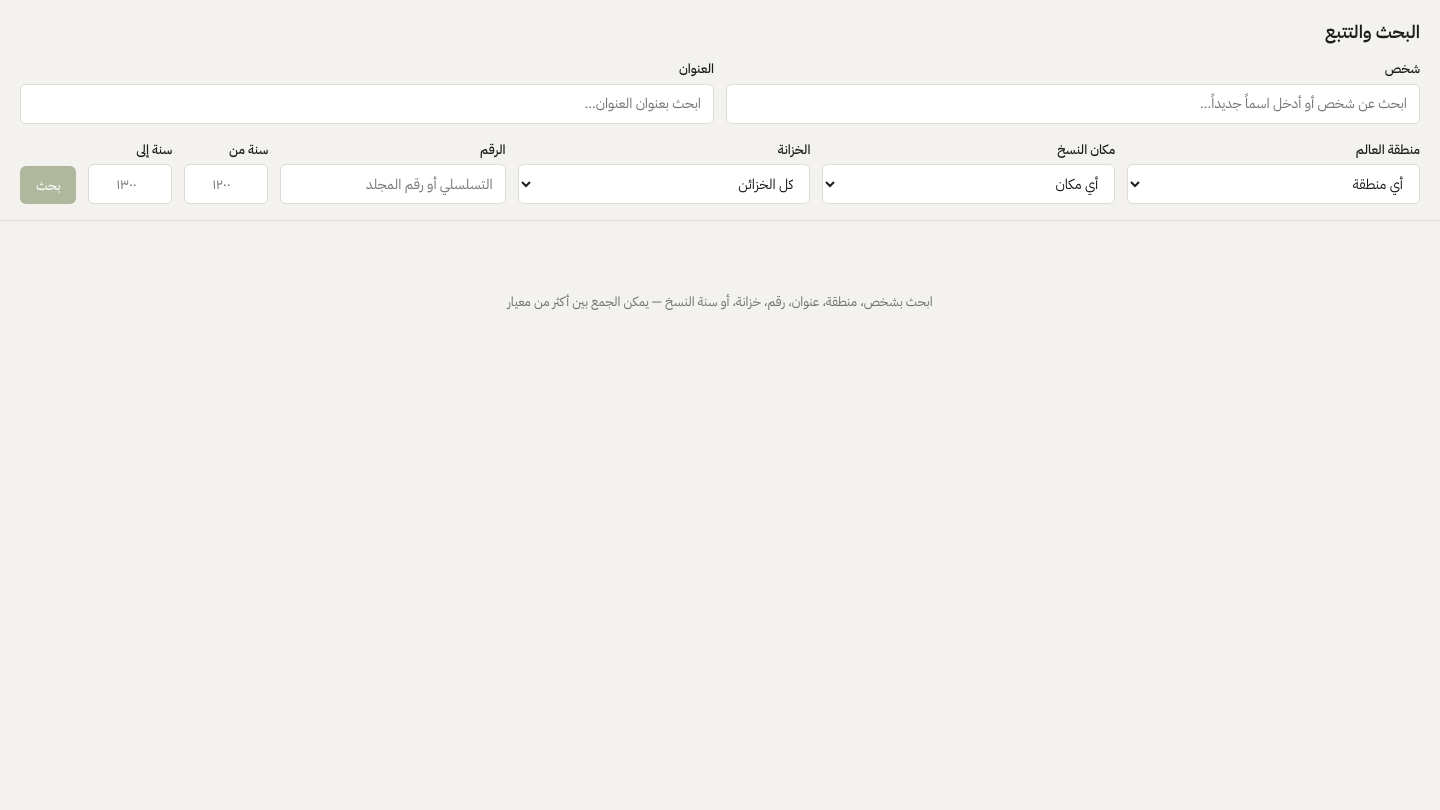
TraceScreen — results table › opens WorkDetailModal when a work-level row is clicked
Type "ر" into the field labelled "العنوان" at (367, 104), box [20,84,714,124]
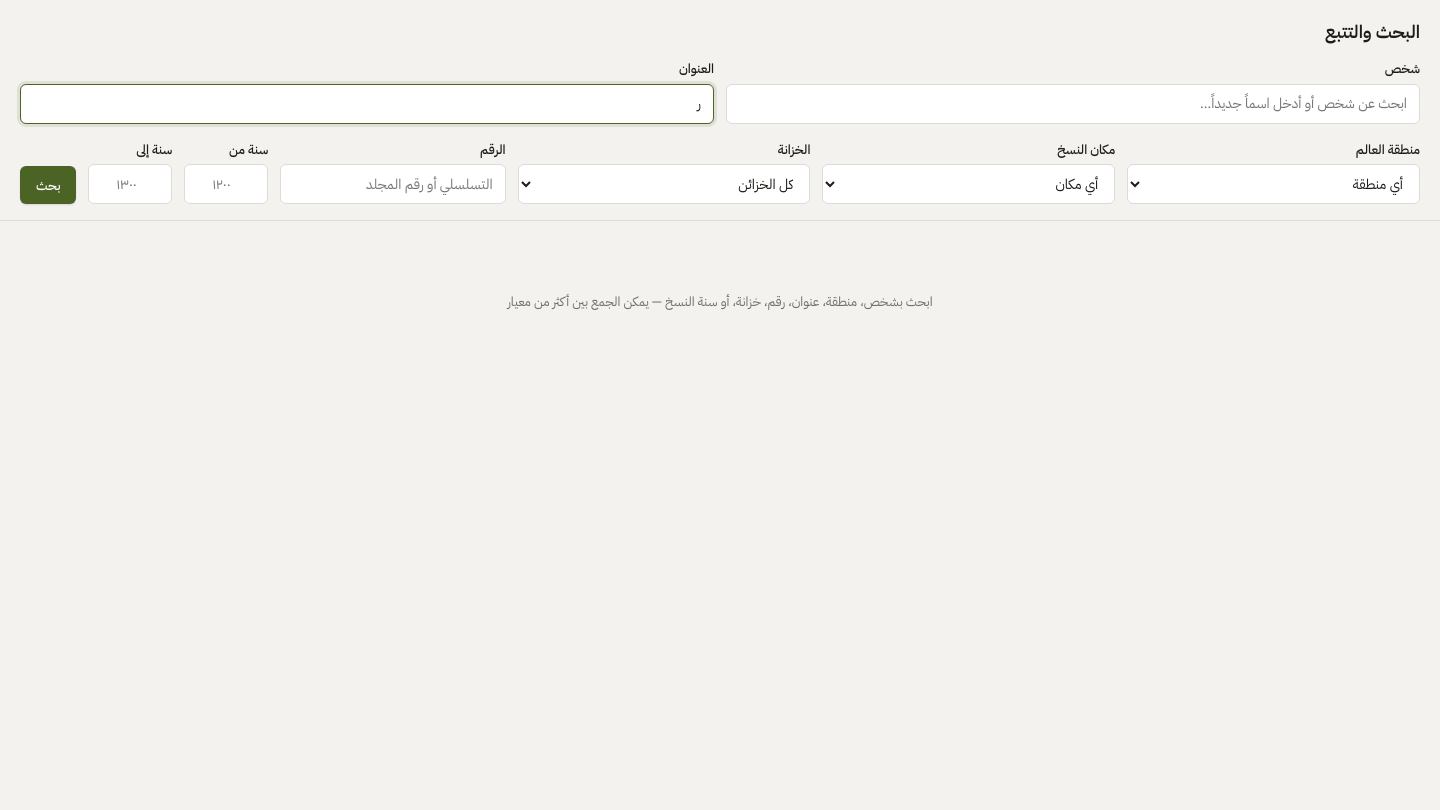
Click the button "بحث" at (48, 185), box [20,166,76,204]
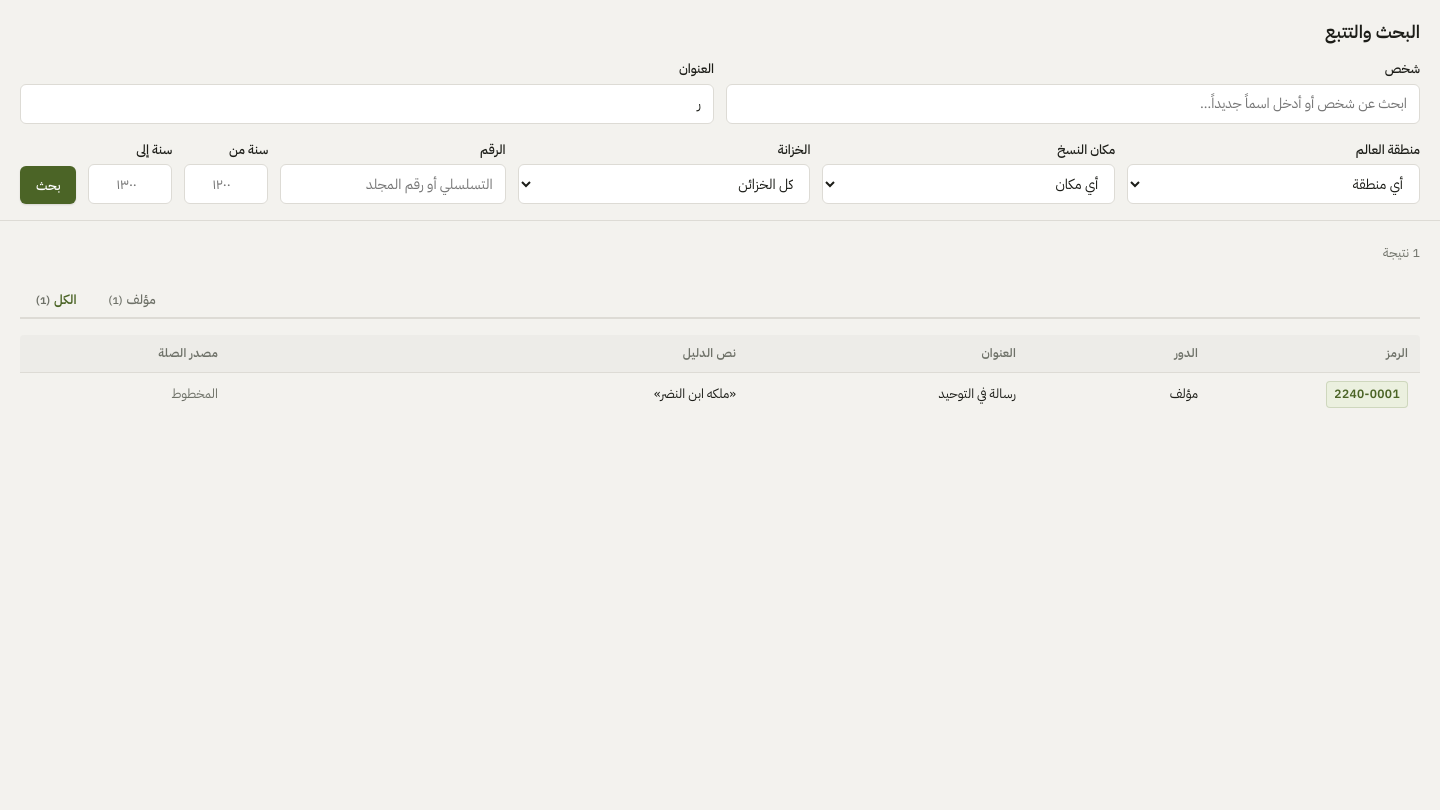
Click the text "«ملكه ابن النضر»" at (720, 394), box [20,372,1420,416]
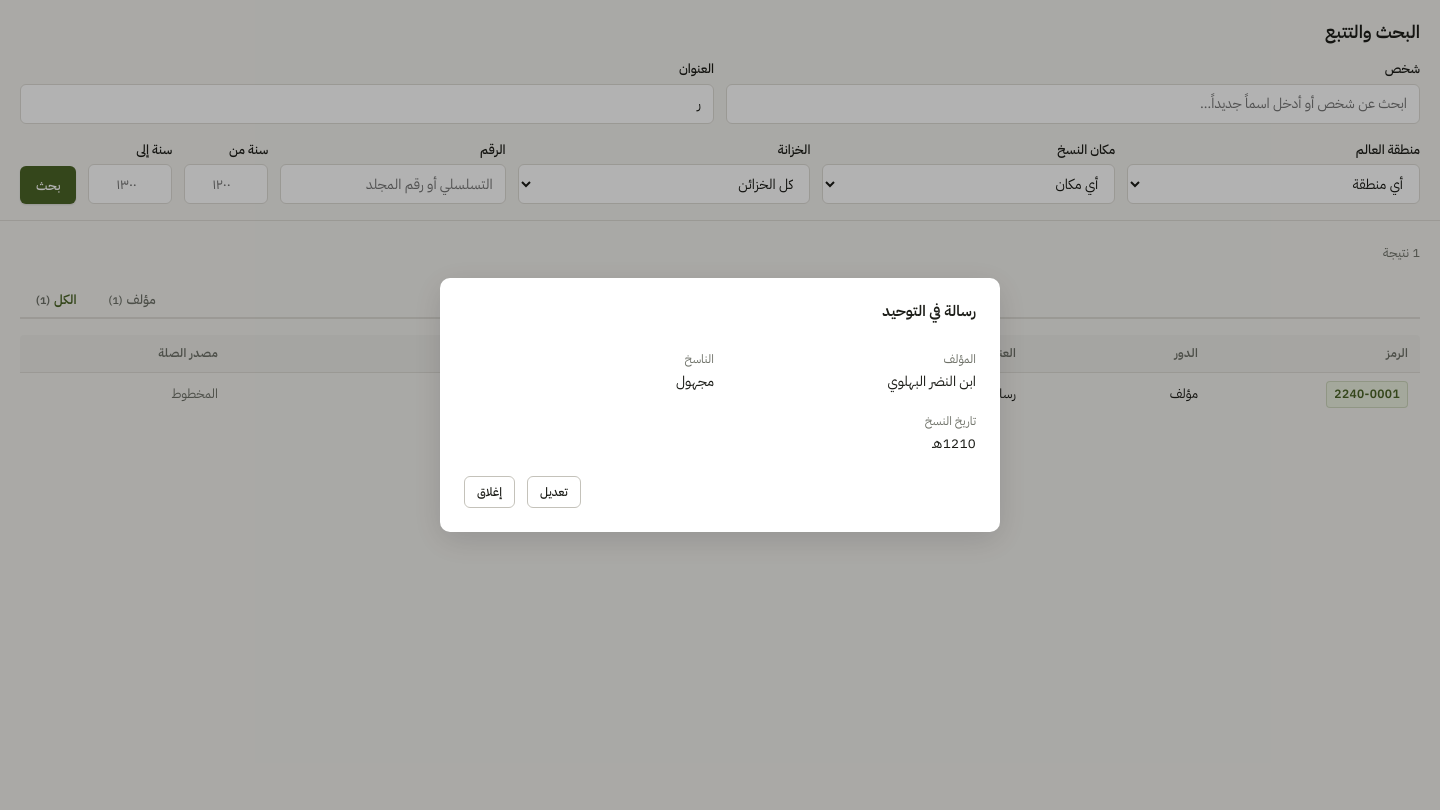
Check: the heading "رسالة في التوحيد" is shown, box [882,300,976,322]
